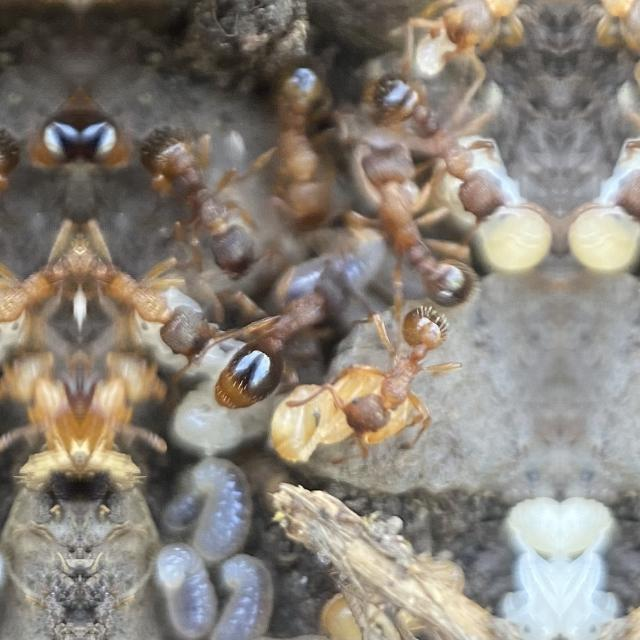Myrmica: (356, 48, 542, 250), (198, 223, 366, 417), (342, 130, 483, 324), (126, 106, 270, 294), (326, 292, 459, 466), (81, 222, 221, 366), (79, 330, 175, 504), (252, 44, 346, 220), (0, 330, 78, 504), (576, 46, 640, 250), (409, 0, 551, 84), (0, 220, 76, 365), (78, 94, 144, 200), (15, 94, 80, 200), (566, 0, 640, 84), (0, 106, 32, 294)
